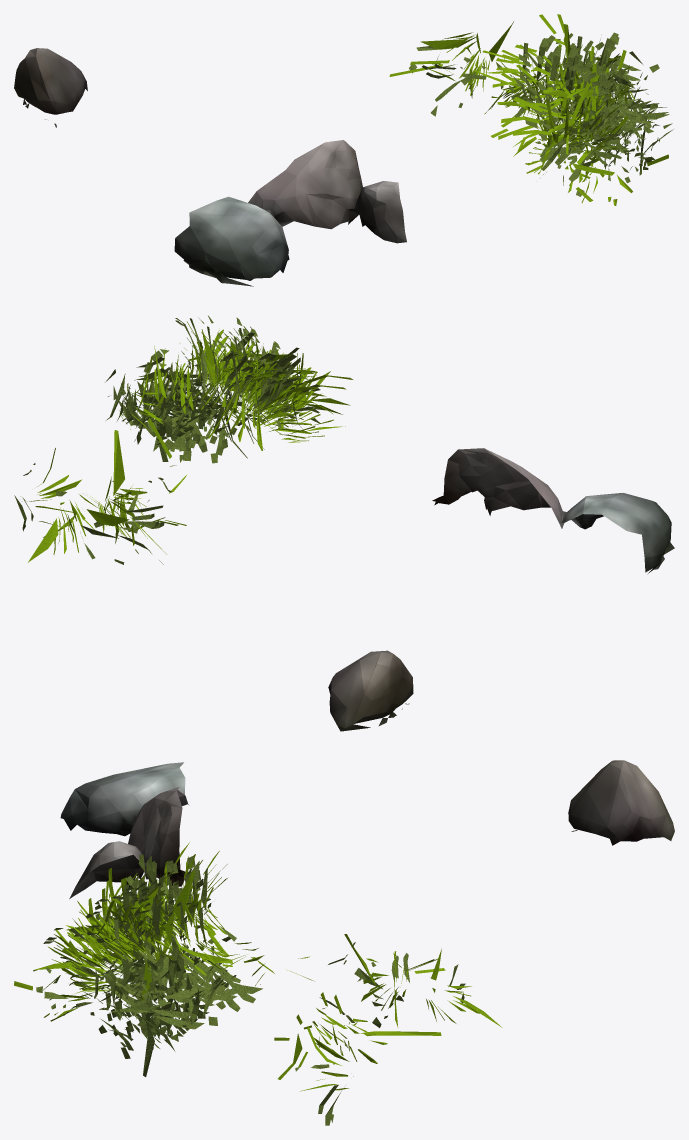
Rendered from stones_and_grass.glb.
The picture shows the model from 3 angles, top to bottom: view 1: azimuth 30°, elevation 25°; view 2: azimuth 150°, elevation 25°; view 3: azimuth 270°, elevation 25°; orthographic projection. The views are drawn at different scales.
Parts seen in each view (by area): view 1: FbxMesh (×3); view 2: FbxMesh (×3); view 3: FbxMesh (×3).
Part boxes in pixels (x1=…): FbxMesh (×3): x1=14, y1=14, x2=673, y2=286; FbxMesh (×3): x1=14, y1=315, x2=674, y2=731; FbxMesh (×3): x1=14, y1=760, x2=674, y2=1125.
Size of the model in its own units: 0.9345 by 0.2964 by 0.9014.
3 materials, 3 textured.
